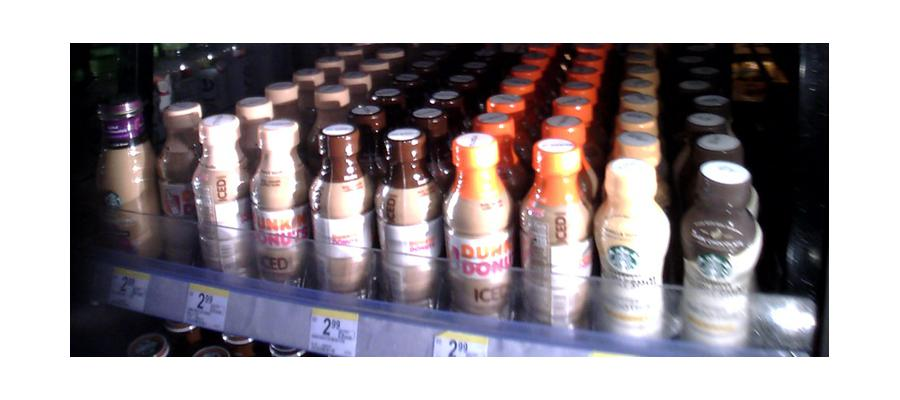bottle: (684, 158, 759, 346), (519, 139, 588, 332), (598, 159, 667, 337), (446, 134, 508, 321), (377, 129, 438, 309), (310, 119, 368, 301), (248, 118, 301, 288), (193, 110, 244, 274), (94, 101, 145, 264), (151, 100, 194, 265)
